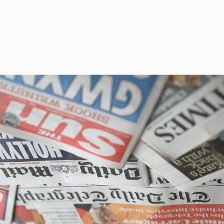news_paper: (0, 73, 174, 172), (11, 164, 224, 223), (126, 72, 223, 194), (0, 132, 151, 190)
